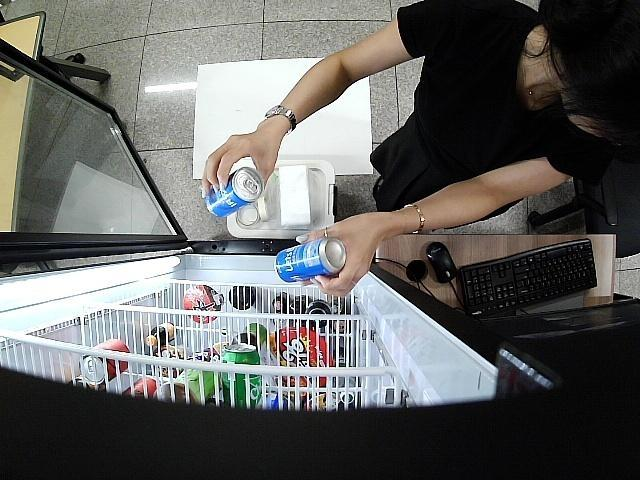15_letsbe: (275, 240, 346, 282), (206, 170, 264, 216)
